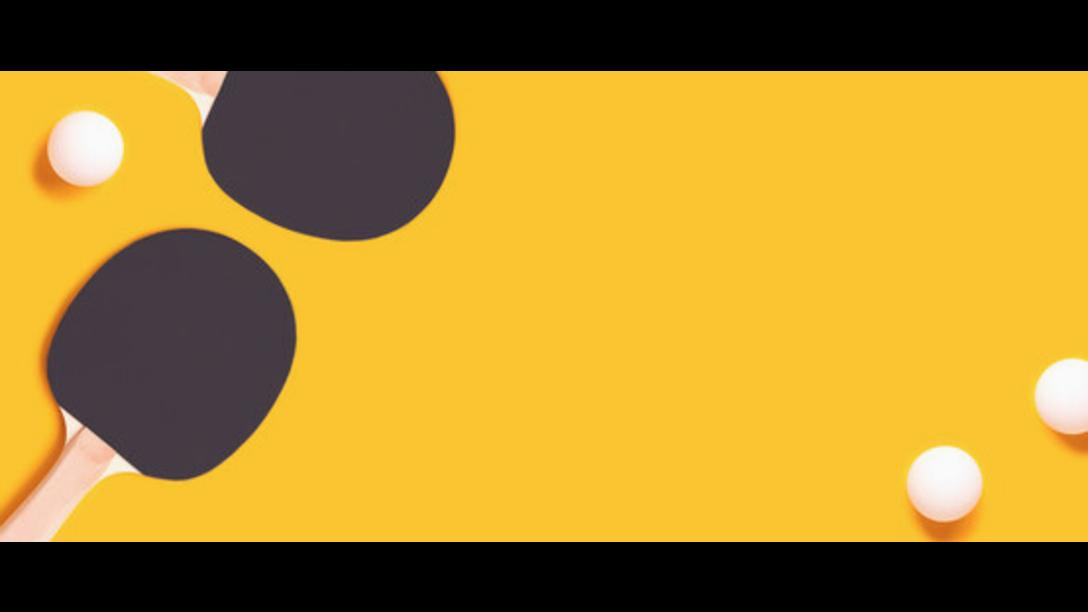Table-Tennis-Ball: (49, 112, 124, 184), (910, 446, 982, 518), (1038, 356, 1088, 434)
